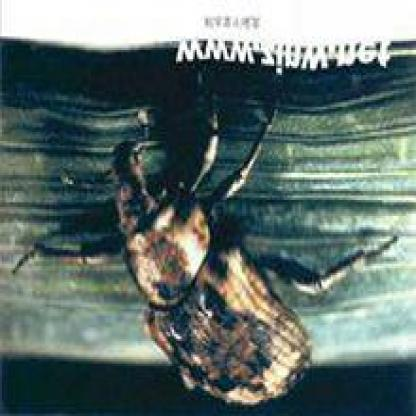rice-bug: (110, 135, 314, 413)
